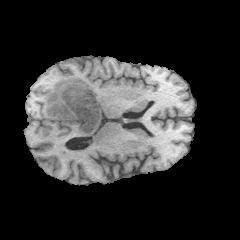glioma: (44, 76, 101, 136)
